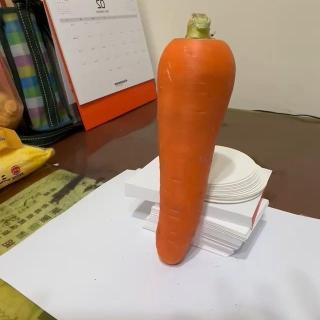carrot: (149, 12, 238, 266)
